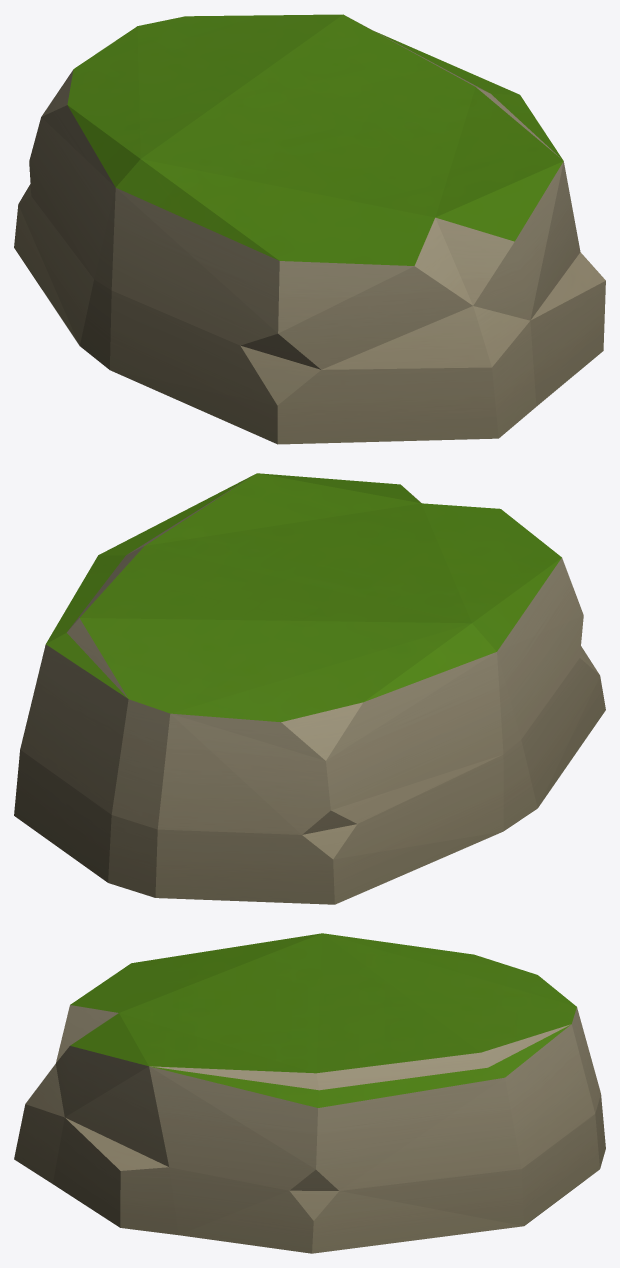
Rendered from RockGrass_01.fbx.
3 views of the same model, one above another, from view 1: azimuth 30°, elevation 25°; view 2: azimuth 150°, elevation 25°; view 3: azimuth 270°, elevation 25° (orthographic). The views are drawn at different scales.
Parts seen in each view (by area): view 1: RockGrass_01; view 2: RockGrass_01; view 3: RockGrass_01.
Part boxes in pixels (x1=…): RockGrass_01: x1=14, y1=14, x2=605, y2=444; RockGrass_01: x1=14, y1=473, x2=605, y2=904; RockGrass_01: x1=14, y1=933, x2=605, y2=1253.
Bounding box in the file's own units: 280 × 111 × 380.
